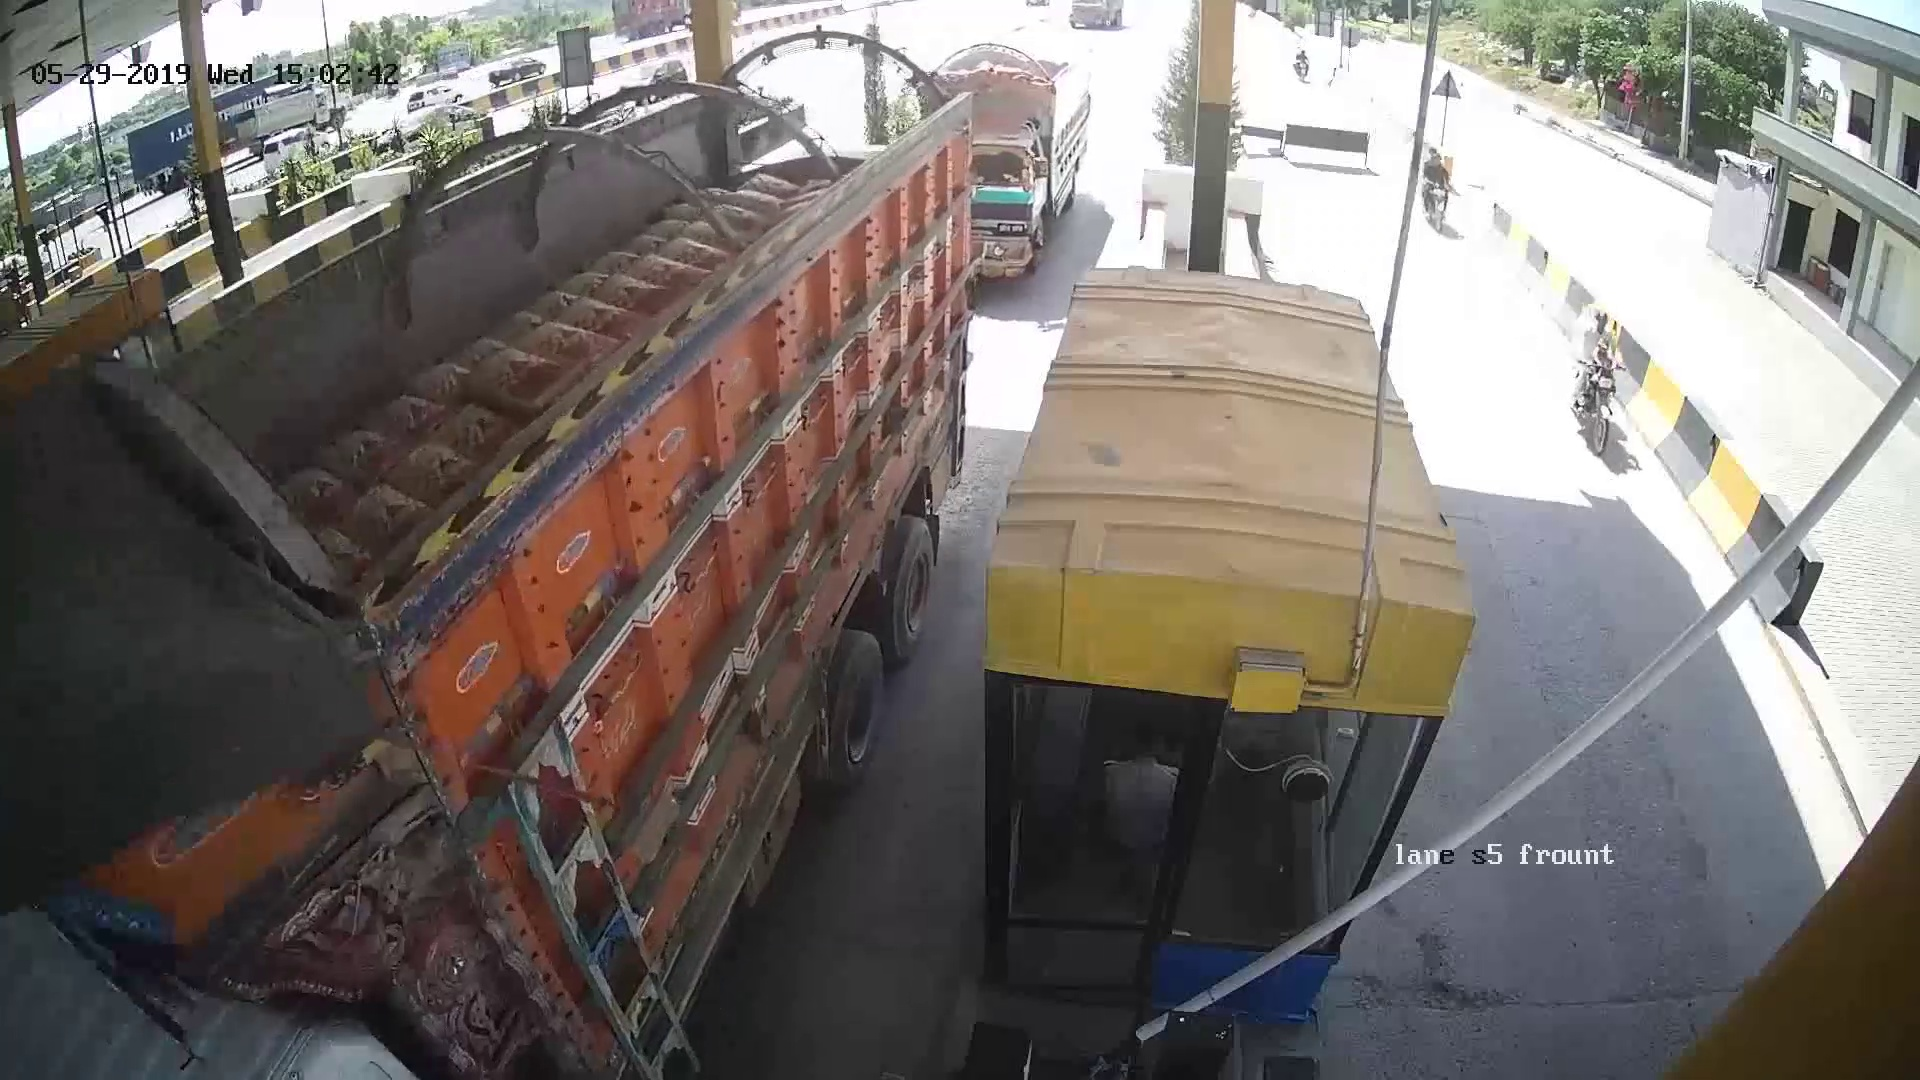truck: (316, 316, 785, 884), (932, 47, 1122, 264)
